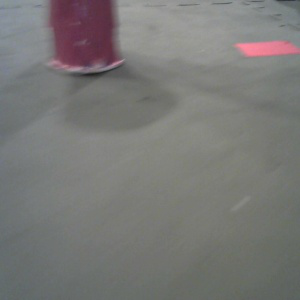middle: (49, 1, 126, 75)
